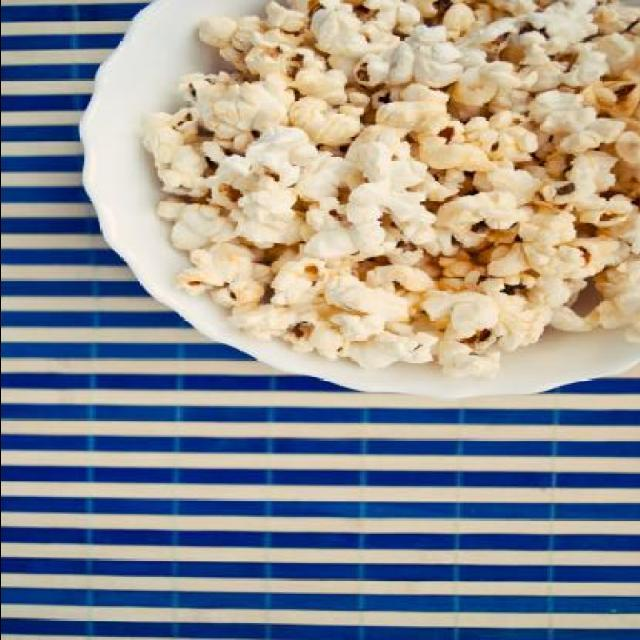Popcorn: (145, 0, 640, 377)
